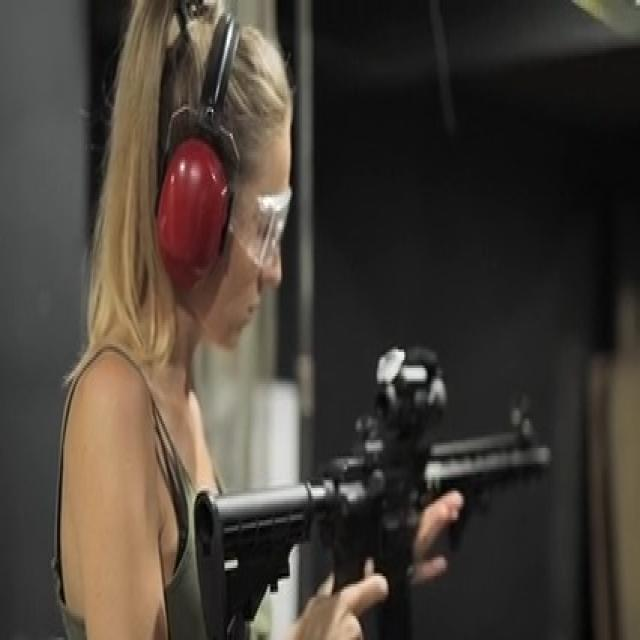Gun_Holder: (189, 311, 619, 640)
Person: (50, 2, 391, 632)
